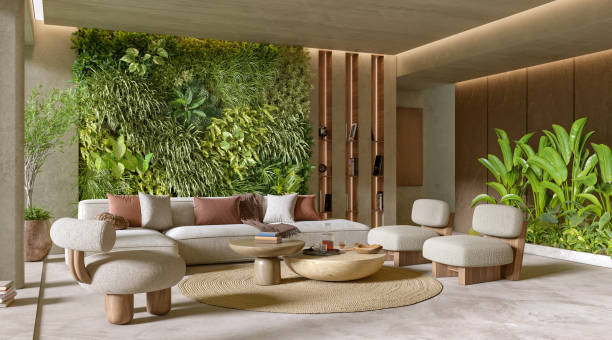chair: (47, 215, 188, 327), (420, 202, 527, 287), (366, 196, 456, 268)
large plant: (494, 122, 612, 253), (25, 85, 68, 263)
sofa: (76, 189, 370, 266)
table: (286, 241, 388, 283), (225, 235, 304, 285)
